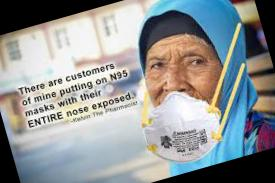mask_weared_incorrect: (134, 40, 229, 147)
